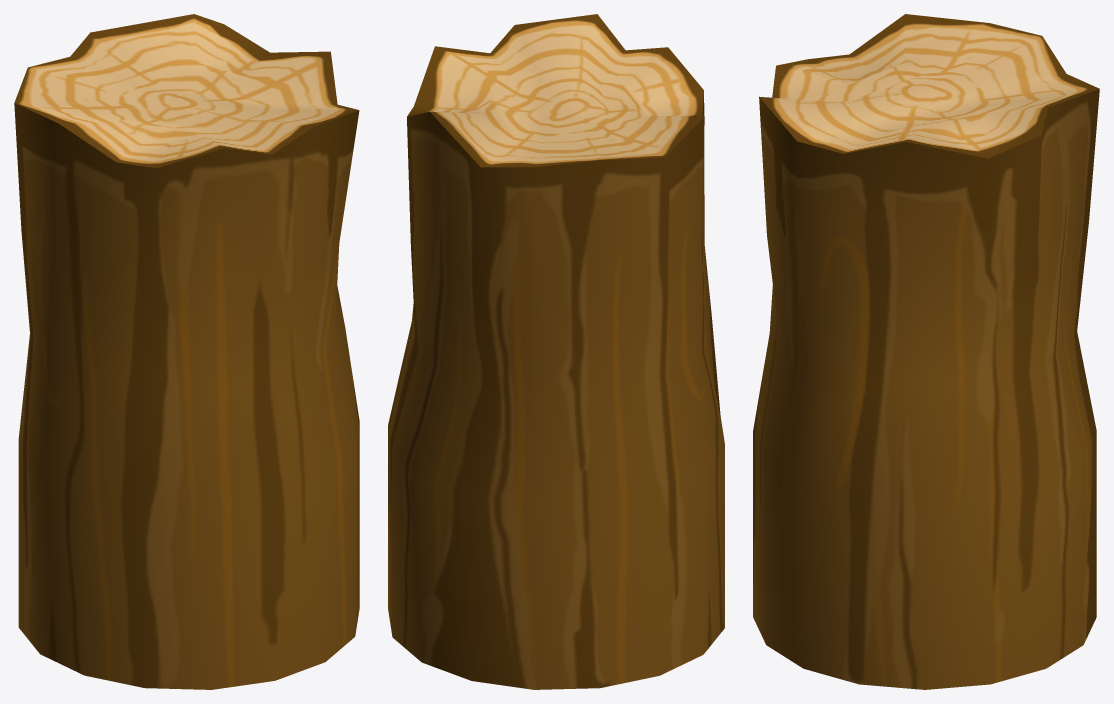
File: Peg.fbx
The picture shows the model from 3 angles, left to right: view 1: azimuth 30°, elevation 25°; view 2: azimuth 150°, elevation 25°; view 3: azimuth 270°, elevation 25°; orthographic projection.
Parts seen in each view (by area): view 1: Circle; view 2: Circle; view 3: Circle.
Part boxes in pixels (bbox=[...]): Circle: bbox=[14, 14, 359, 689]; Circle: bbox=[388, 14, 724, 689]; Circle: bbox=[753, 14, 1099, 689].
Size of the model in its own units: 1 by 1.74 by 1.01.
